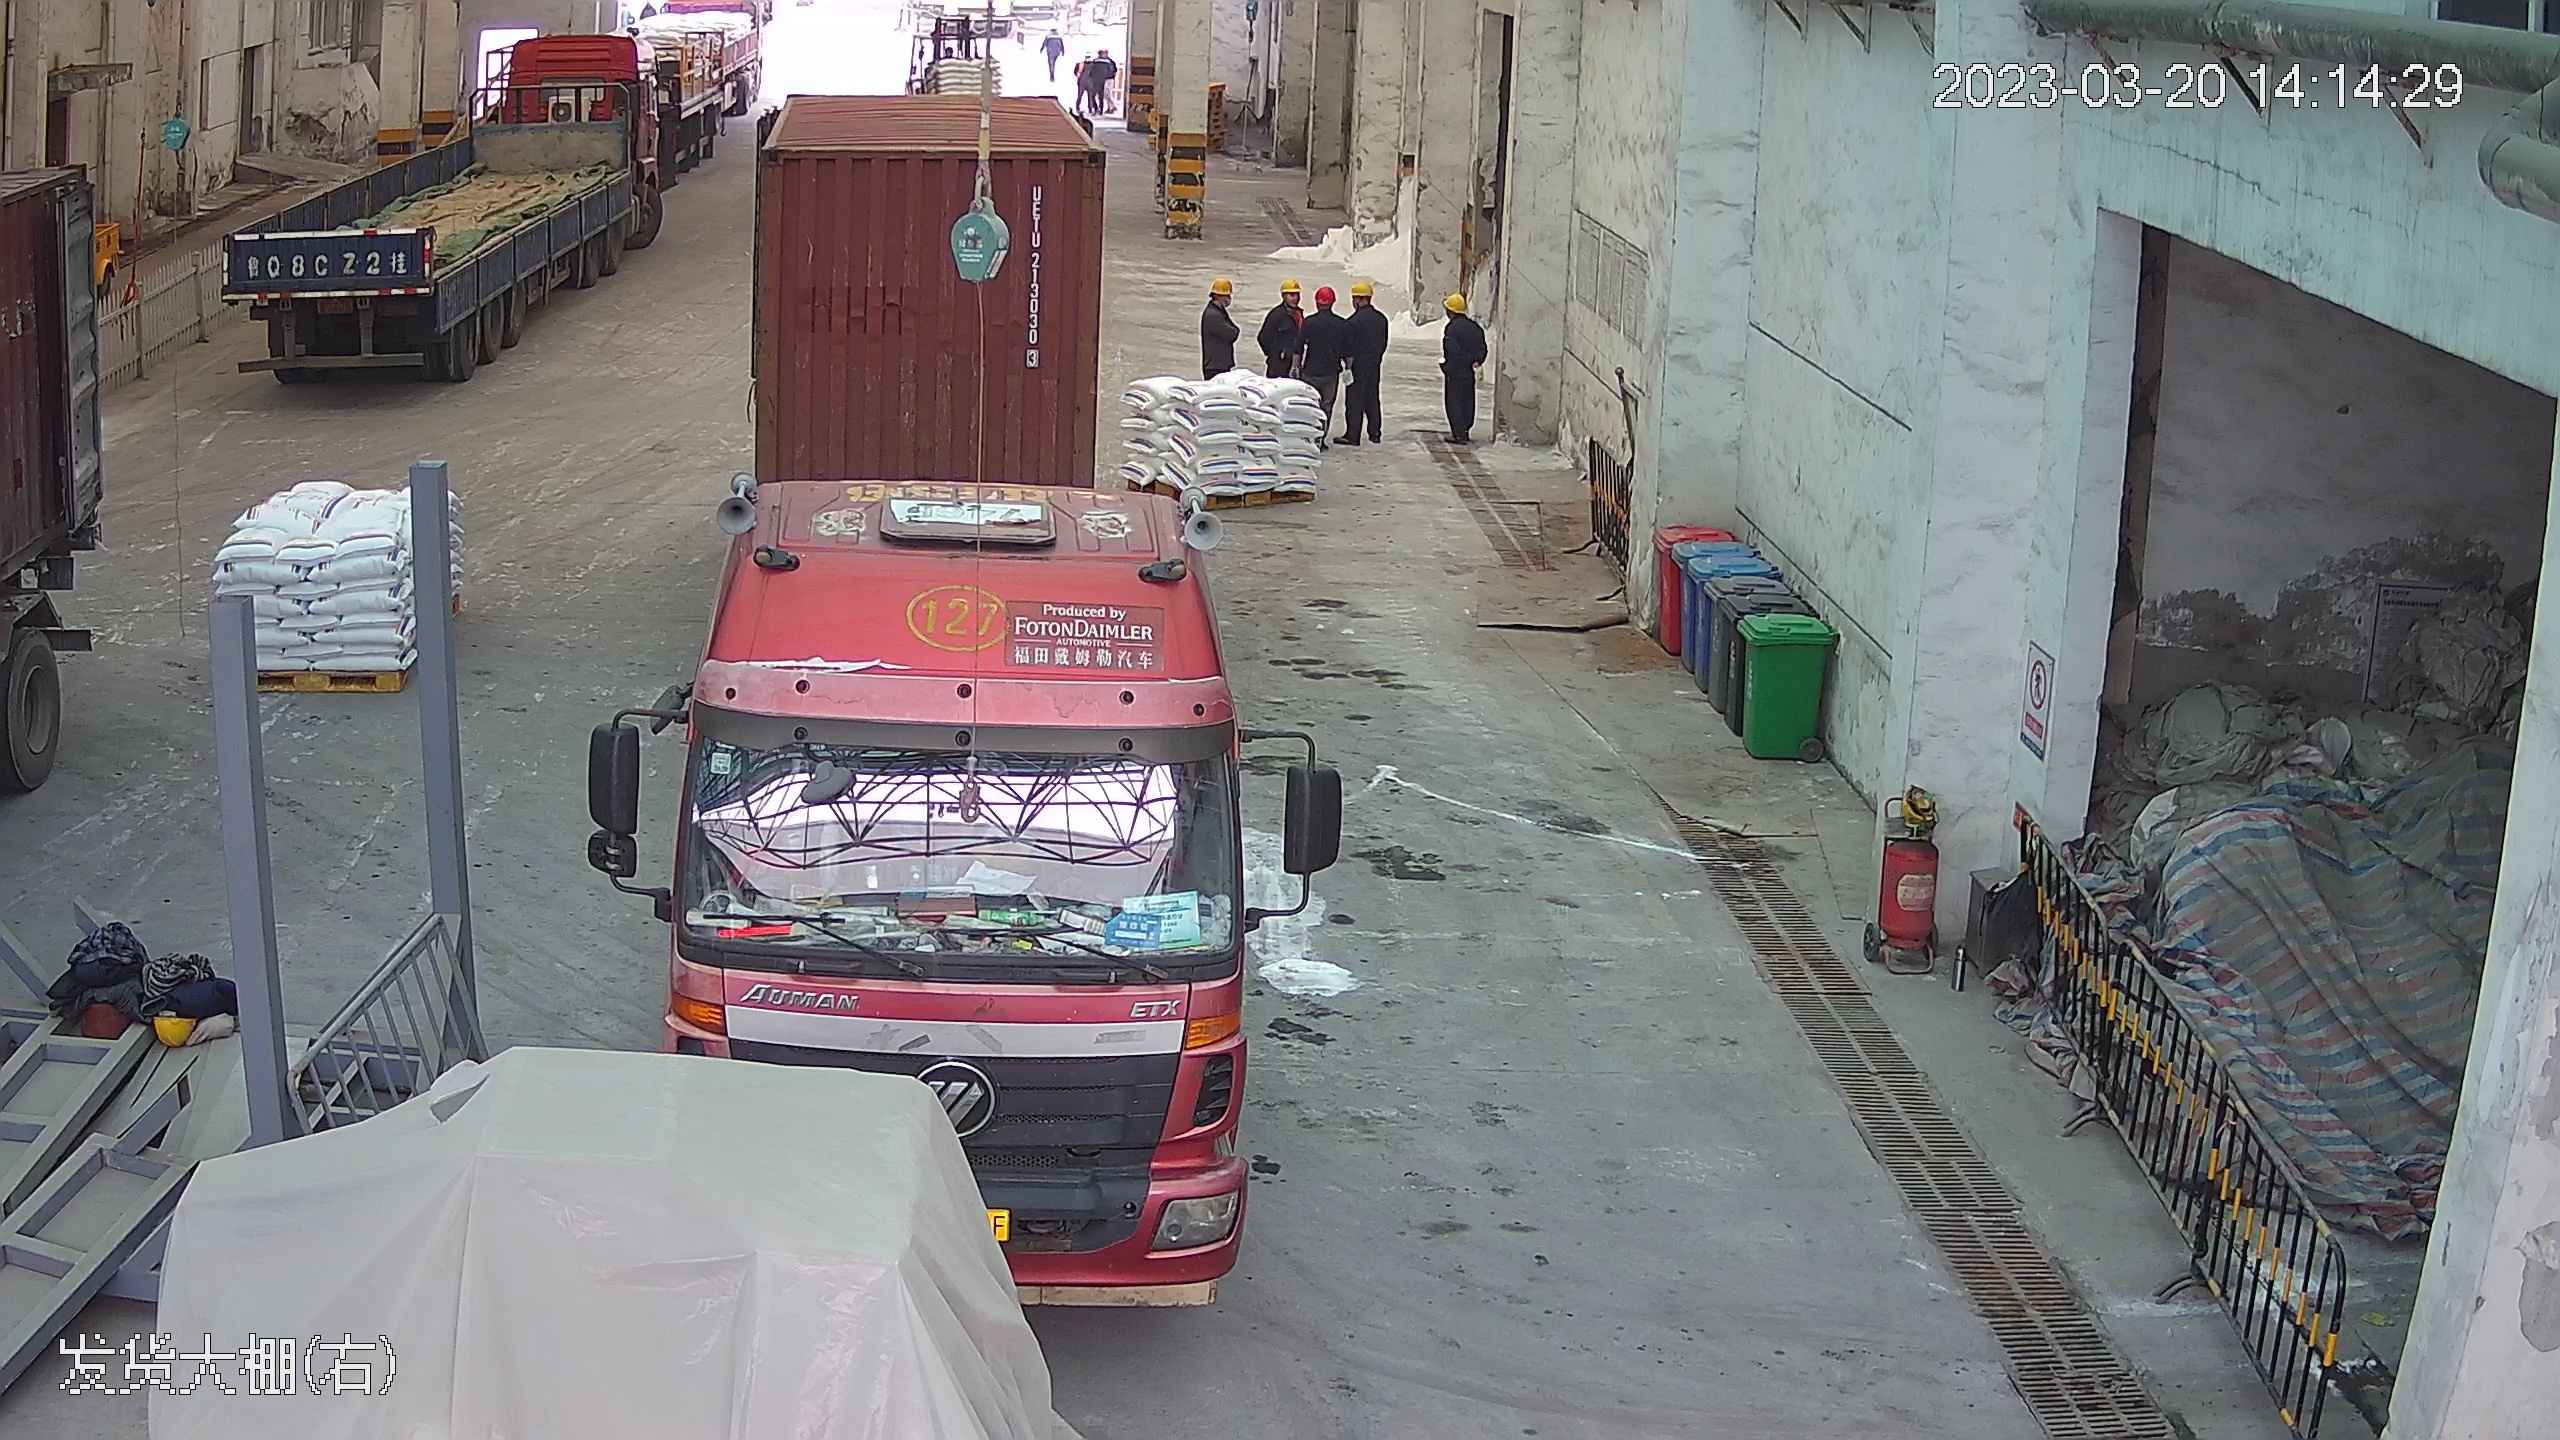head: (1338, 276, 1390, 333), (1198, 273, 1244, 332), (1438, 287, 1485, 343), (1264, 277, 1314, 326), (1306, 282, 1349, 334)
helmet: (1348, 277, 1381, 305), (1440, 287, 1468, 311), (1210, 274, 1237, 296), (1277, 275, 1302, 295)
people: (1332, 276, 1395, 451), (1304, 282, 1360, 437), (1436, 286, 1490, 447), (1201, 270, 1255, 363), (1255, 276, 1303, 363), (1072, 43, 1102, 121)
truck: (643, 26, 1267, 1291), (222, 29, 672, 378)
